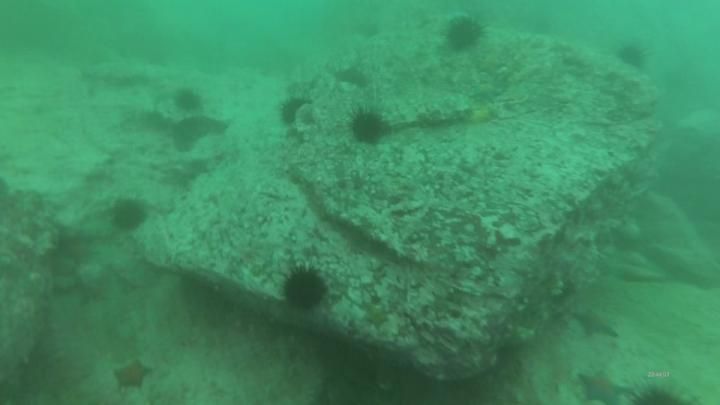echinus: (277, 264, 333, 316), (444, 15, 489, 55), (349, 106, 389, 145), (108, 198, 151, 234), (626, 387, 698, 405), (617, 39, 653, 73), (278, 97, 313, 129), (173, 89, 203, 116)
starfish: (578, 366, 628, 405), (111, 356, 154, 392), (574, 309, 620, 342), (361, 302, 394, 333)
